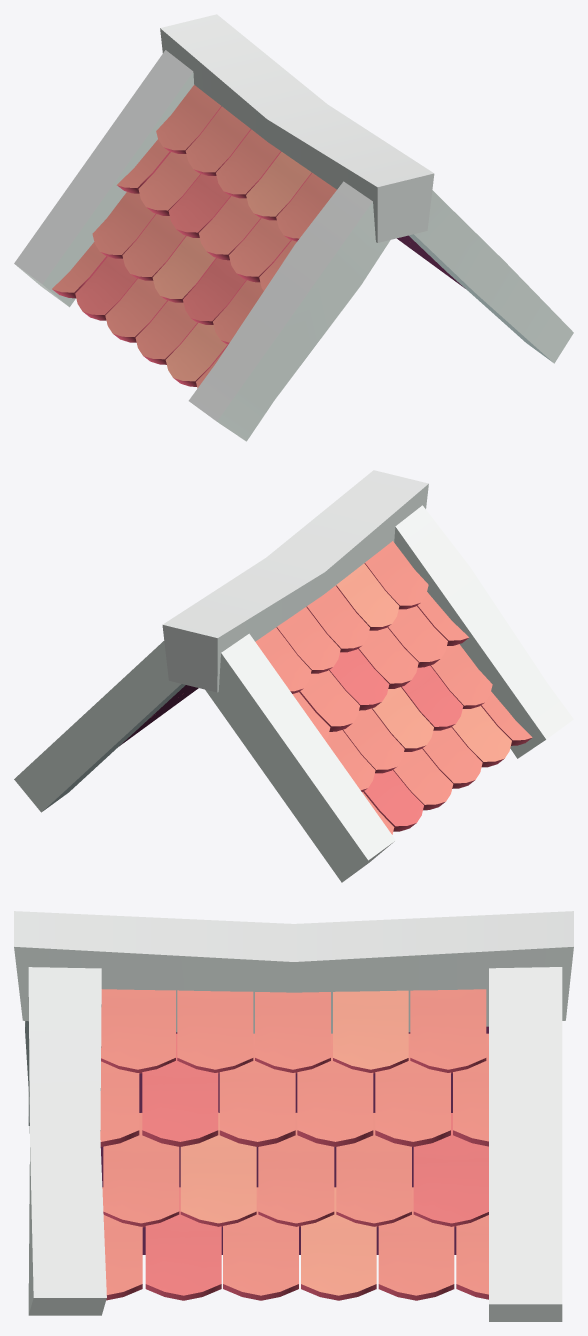
The model's file is Roof01_Pink_White.glb.
3 views of the same model, one above another, from view 1: azimuth 30°, elevation 25°; view 2: azimuth 150°, elevation 25°; view 3: azimuth 270°, elevation 25° (orthographic). The views are drawn at different scales.
Parts seen in each view (by area): view 1: Roof01_Pink_White; view 2: Roof01_Pink_White; view 3: Roof01_Pink_White.
Boxes of the visible parts, x1,y1,x2,y2 form: Roof01_Pink_White: (14, 14, 573, 441); Roof01_Pink_White: (14, 470, 573, 882); Roof01_Pink_White: (14, 911, 573, 1321).
Bounding box in the file's own units: 2.41 × 1.43 × 2.46.
Materials: 1 (1 with a texture image).
